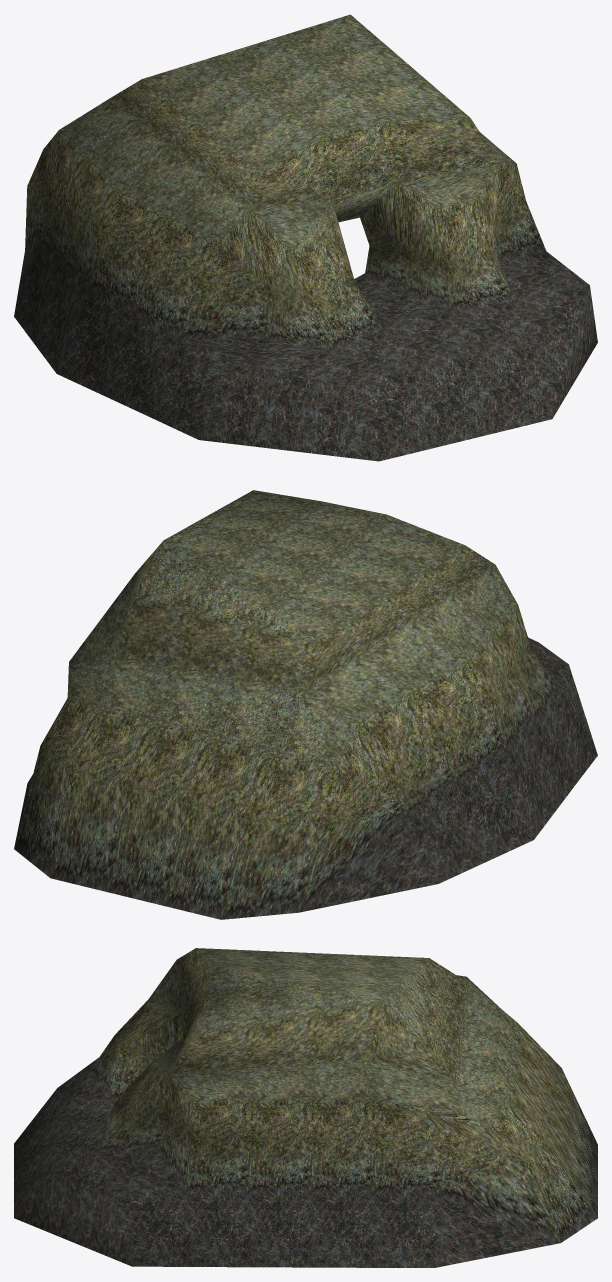
The model's file is thm_all_cave_flatland_s02_damprock_r0_mesh_l3.fbx.
3 renders of one model, top to bottom at view 1: azimuth 30°, elevation 25°; view 2: azimuth 150°, elevation 25°; view 3: azimuth 270°, elevation 25°, orthographic. The views are drawn at different scales.
Parts seen in each view (by area): view 1: mesh_node; view 2: mesh_node; view 3: mesh_node.
Boxes of the visible parts, left/top/right/bottom form: mesh_node: left=14, top=14, right=597, bottom=461; mesh_node: left=14, top=490, right=597, bottom=919; mesh_node: left=14, top=948, right=597, bottom=1267.
Size of the model in its own units: 56.42 by 30.46 by 73.46.
